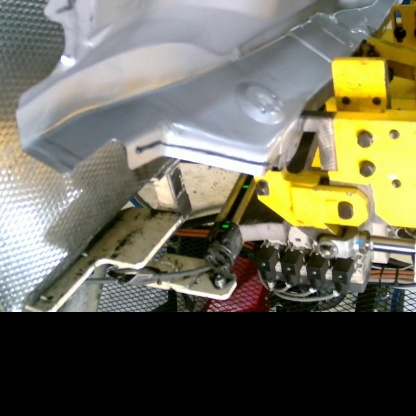line: (134, 138, 272, 168)
